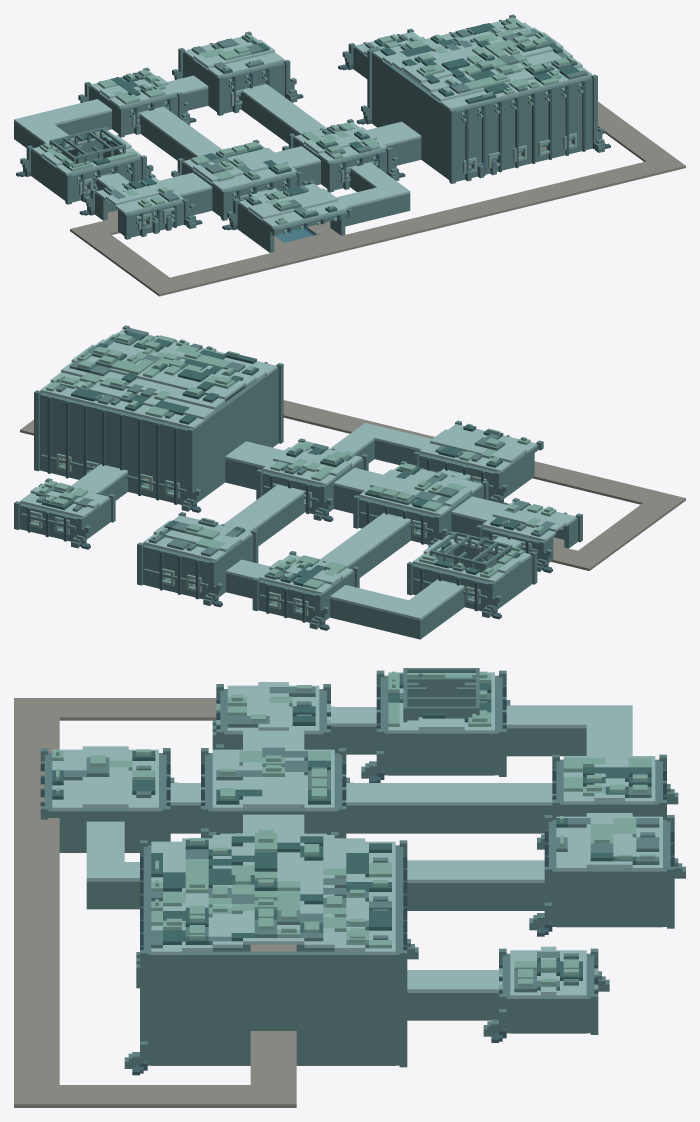
File: sealed_arboretum.glb
3 renders of one model, top to bottom at view 1: azimuth 30°, elevation 25°; view 2: azimuth 150°, elevation 25°; view 3: azimuth 270°, elevation 25°, orthographic. The views are drawn at different scales.
Parts seen in each view (by area): view 1: sealed_arboretum/room_walls, sealed_arboretum/floor_mesh, sealed_arboretum/exterior_details, sealed_arboretum/roof_arena, sealed_arboretum/corridor_walls, sealed_arboretum/roof_workshop, sealed_arboretum/roof_cistern, sealed_arboretum/roof_production, sealed_arboretum/roof_nursery, sealed_arboretum/roof_antechamber, sealed_arboretum/roof_seed_bank, sealed_arboretum/roof_entrance (+11 smaller); view 2: sealed_arboretum/room_walls, sealed_arboretum/exterior_details, sealed_arboretum/roof_arena, sealed_arboretum/corridor_walls, sealed_arboretum/floor_mesh, sealed_arboretum/roof_workshop, sealed_arboretum/roof_cistern, sealed_arboretum/roof_production, sealed_arboretum/roof_nursery, sealed_arboretum/roof_antechamber, sealed_arboretum/roof_seed_bank, sealed_arboretum/roof_entrance (+12 smaller); view 3: sealed_arboretum/room_walls, sealed_arboretum/floor_mesh, sealed_arboretum/roof_arena, sealed_arboretum/corridor_walls, sealed_arboretum/exterior_details, sealed_arboretum/roof_workshop, sealed_arboretum/roof_cistern, sealed_arboretum/roof_nursery, sealed_arboretum/roof_production, sealed_arboretum/corridor_roof_12, sealed_arboretum/roof_seed_bank, sealed_arboretum/roof_entrance (+11 smaller).
Part boxes in pixels (x1,y1,x2,y2): sealed_arboretum/room_walls: [31, 19, 592, 252]; sealed_arboretum/floor_mesh: [67, 97, 685, 296]; sealed_arboretum/exterior_details: [16, 14, 610, 239]; sealed_arboretum/roof_arena: [373, 17, 592, 110]; sealed_arboretum/corridor_walls: [14, 88, 421, 228]; sealed_arboretum/roof_workshop: [183, 141, 297, 190]; sealed_arboretum/roof_cistern: [239, 183, 347, 227]; sealed_arboretum/roof_production: [32, 127, 141, 174]; sealed_arboretum/roof_nursery: [184, 33, 284, 76]; sealed_arboretum/roof_antechamber: [294, 122, 386, 162]; sealed_arboretum/roof_seed_bank: [90, 69, 177, 107]; sealed_arboretum/roof_entrance: [96, 177, 183, 213]; sealed_arboretum/room_walls: [19, 335, 577, 622]; sealed_arboretum/exterior_details: [14, 325, 582, 630]; sealed_arboretum/roof_arena: [40, 327, 277, 428]; sealed_arboretum/corridor_walls: [100, 440, 524, 639]; sealed_arboretum/floor_mesh: [20, 400, 685, 608]; sealed_arboretum/roof_workshop: [359, 463, 482, 515]; sealed_arboretum/roof_cistern: [419, 423, 537, 471]; sealed_arboretum/roof_production: [413, 531, 530, 582]; sealed_arboretum/roof_nursery: [143, 515, 251, 560]; sealed_arboretum/roof_antechamber: [262, 441, 362, 485]; sealed_arboretum/roof_seed_bank: [259, 554, 353, 593]; sealed_arboretum/roof_entrance: [482, 500, 576, 541]; sealed_arboretum/room_walls: [44, 675, 670, 1065]; sealed_arboretum/floor_mesh: [14, 698, 662, 1107]; sealed_arboretum/roof_arena: [151, 831, 395, 954]; sealed_arboretum/corridor_walls: [86, 726, 630, 1020]; sealed_arboretum/exterior_details: [40, 670, 685, 1075]; sealed_arboretum/roof_workshop: [212, 746, 334, 811]; sealed_arboretum/roof_cistern: [52, 746, 158, 811]; sealed_arboretum/roof_nursery: [556, 813, 662, 871]; sealed_arboretum/roof_production: [388, 668, 494, 733]; sealed_arboretum/corridor_roof_12: [342, 783, 556, 805]; sealed_arboretum/roof_seed_bank: [563, 752, 655, 804]; sealed_arboretum/roof_entrance: [227, 682, 319, 734].
Size of the model in its own units: 126 by 20.5 by 88.
